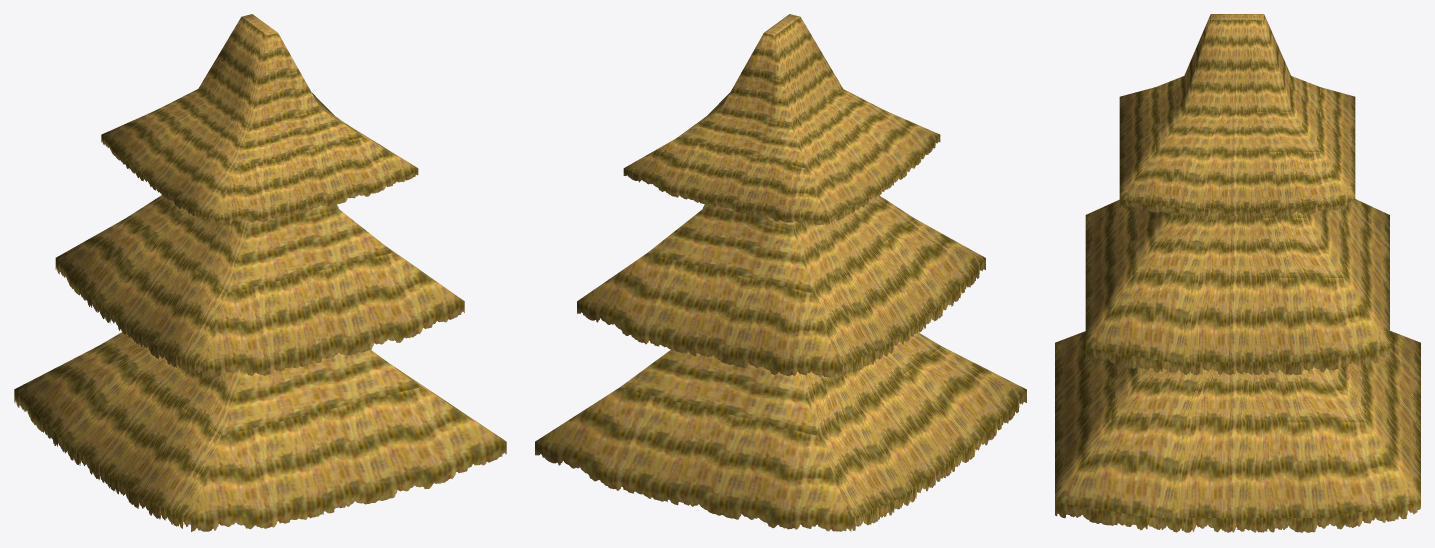
File: roof_pagoda.dae
The picture shows the model from 3 angles, left to right: view 1: azimuth 30°, elevation 25°; view 2: azimuth 150°, elevation 25°; view 3: azimuth 270°, elevation 25°; orthographic projection. The views are drawn at different scales.
Parts seen in each view (by area): view 1: pagoda.001; view 2: pagoda.001; view 3: pagoda.001.
Part boxes in pixels (x1,y1,x2,y2): pagoda.001: (14, 14, 506, 531); pagoda.001: (535, 14, 1026, 531); pagoda.001: (1055, 14, 1420, 532).
Size of the model in its own units: 15.3 by 14.82 by 19.53.
